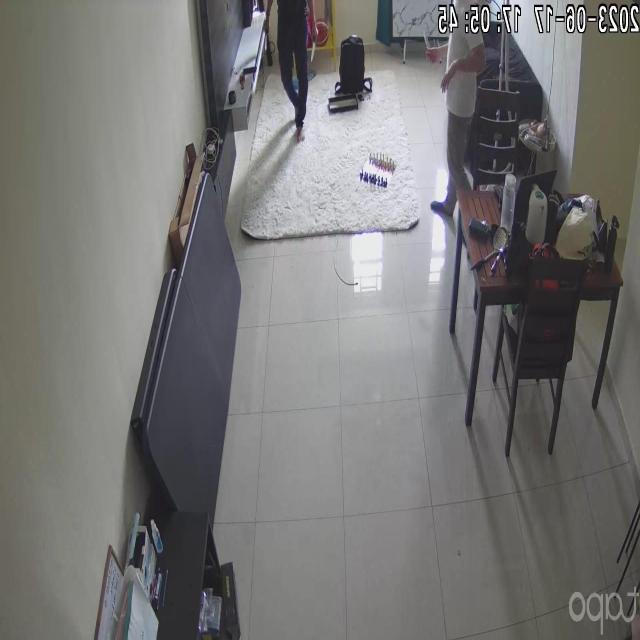Knife: (306, 29, 331, 70)
